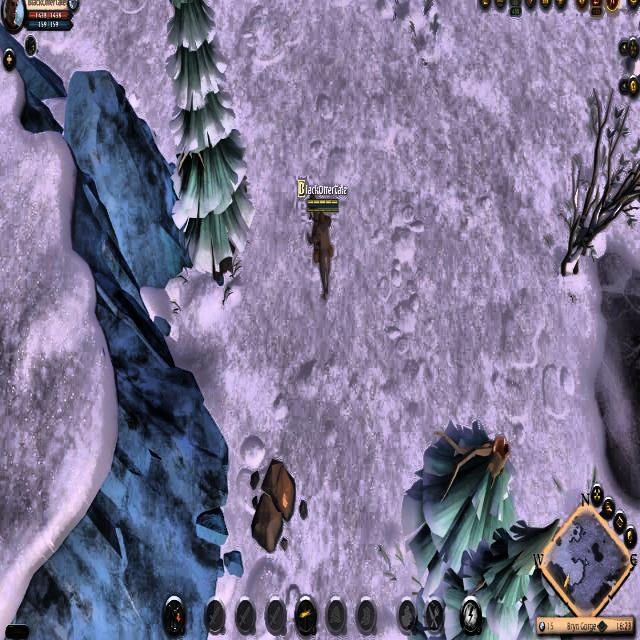limestone: (249, 457, 298, 556)
